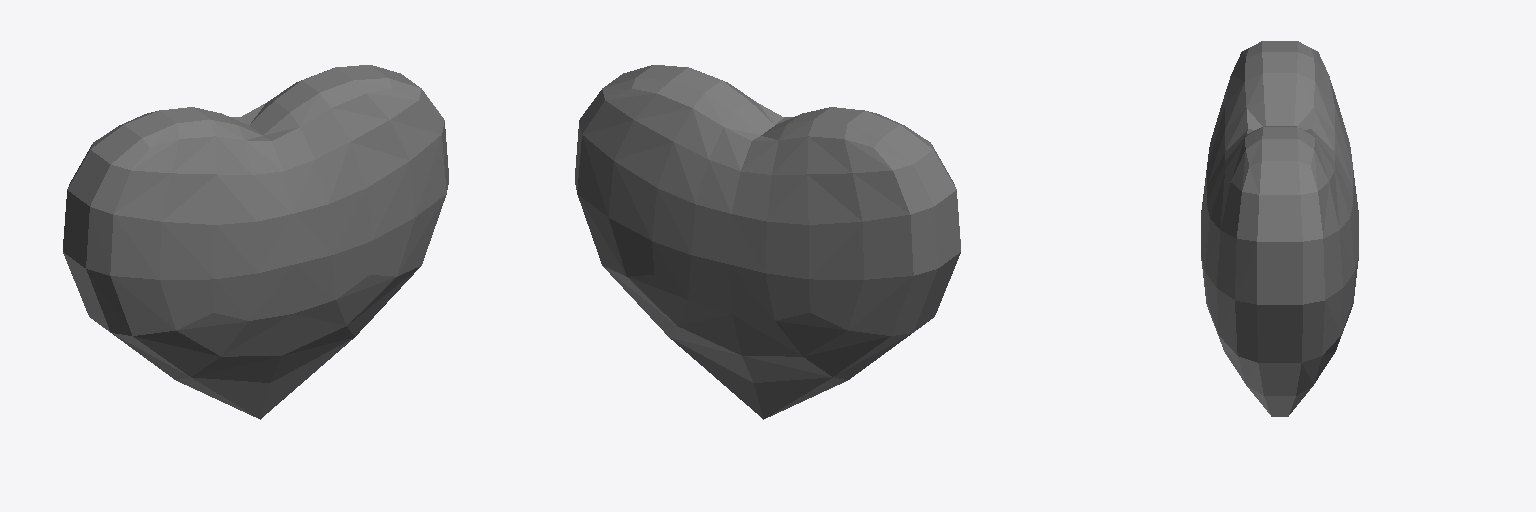
File: Heart.obj
3 renders of one model, left to right at view 1: azimuth 30°, elevation 25°; view 2: azimuth 150°, elevation 25°; view 3: azimuth 270°, elevation 25°, orthographic.
Size of the model in its own units: 1.11 by 0.9411 by 0.4216.